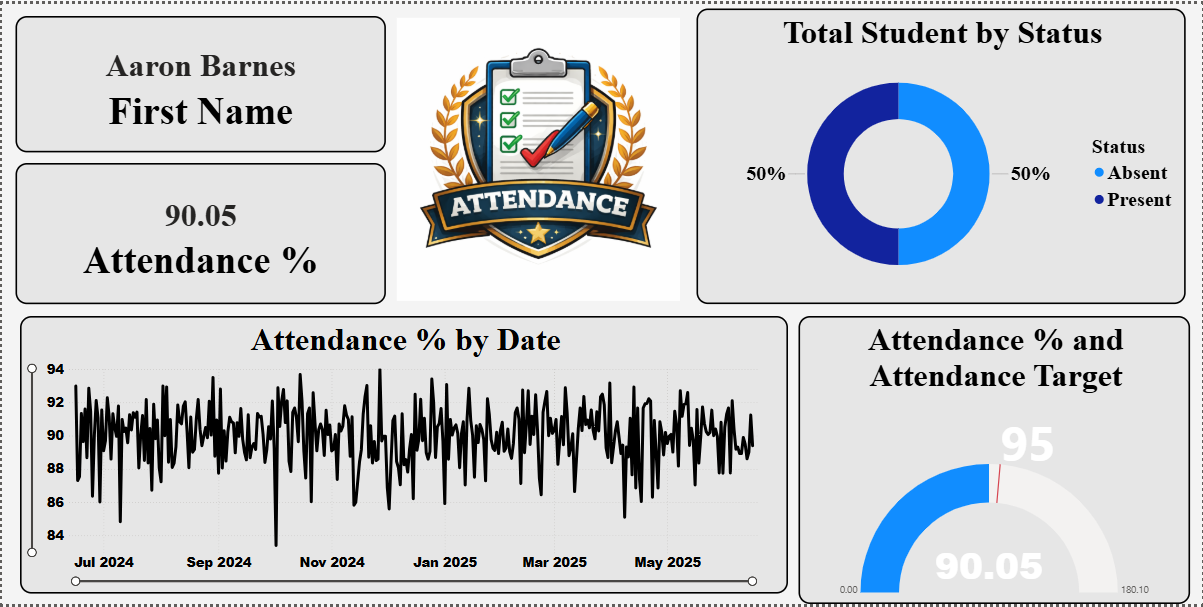

What the dashboard file says about the page in this screenshot:
{"tool":"powerbi","page":{"name":"Attendance view","canvas":[2000,1000],"ordinal":3},"visuals":[{"type":"card","fields":{"Values":["Min(Students - Students csv.Name)"]},"box":[22.5,20,617.5,227.5],"z":0},{"type":"lineChart","fields":{"Category":["Attendance - Attendance csv.Date"],"Y":["Measure Table.Attendance %"]},"box":[30,520,1280,462.5],"z":1000},{"type":"card","fields":{"Values":["Measure Table.Attendance %"]},"box":[22.5,265,617.5,235],"z":2000},{"type":"gauge","fields":{"Y":["Measure Table.Attendance %"],"TargetValue":["Measure Table.Attendance Target"]},"box":[1327.5,520,652.5,480],"z":3000},{"type":"donutChart","fields":{"Y":["Measure Table.Total Student"],"Category":["Attendance - Attendance csv.Status"]},"box":[1157.5,7.5,815,492.5],"z":4000},{"type":"image","box":[610,17.5,567.5,482.5],"z":5000}]}

Visuals, with their boxes in screenshot pixels (x1, y1, x2, y2), scaled from the page's 2000x1000 canvas onto the 1203x607 screenshot:
card - Min(Students - Students csv.Name): l=14, t=12, r=385, b=150
lineChart - Attendance - Attendance csv.Date x Measure Table.Attendance %: l=18, t=316, r=788, b=596
card - Measure Table.Attendance %: l=14, t=161, r=385, b=304
gauge - Measure Table.Attendance % x Measure Table.Attendance Target: l=798, t=316, r=1191, b=606
donutChart - Measure Table.Total Student x Attendance - Attendance csv.Status: l=696, t=5, r=1186, b=304
image: l=367, t=11, r=708, b=304
